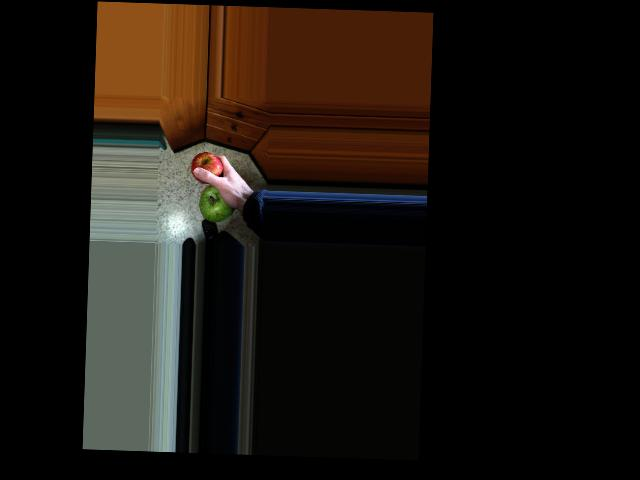apple: (196, 183, 239, 225)
